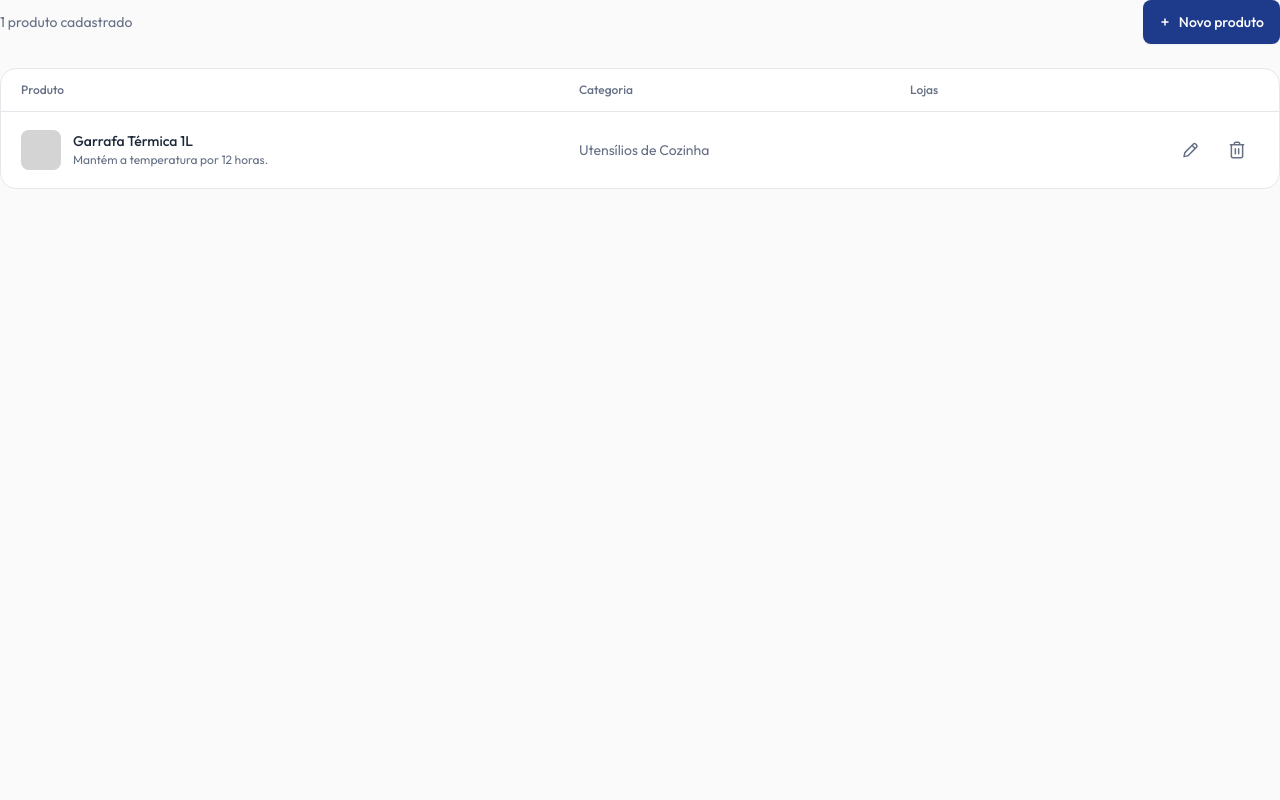
Scenario: ProductAdminPanel › opens the edit with the photos it already had when the api photos fail
Click the button named "Editar Garrafa Térmica 1L" at (1189,150), box [1167,128,1211,172]
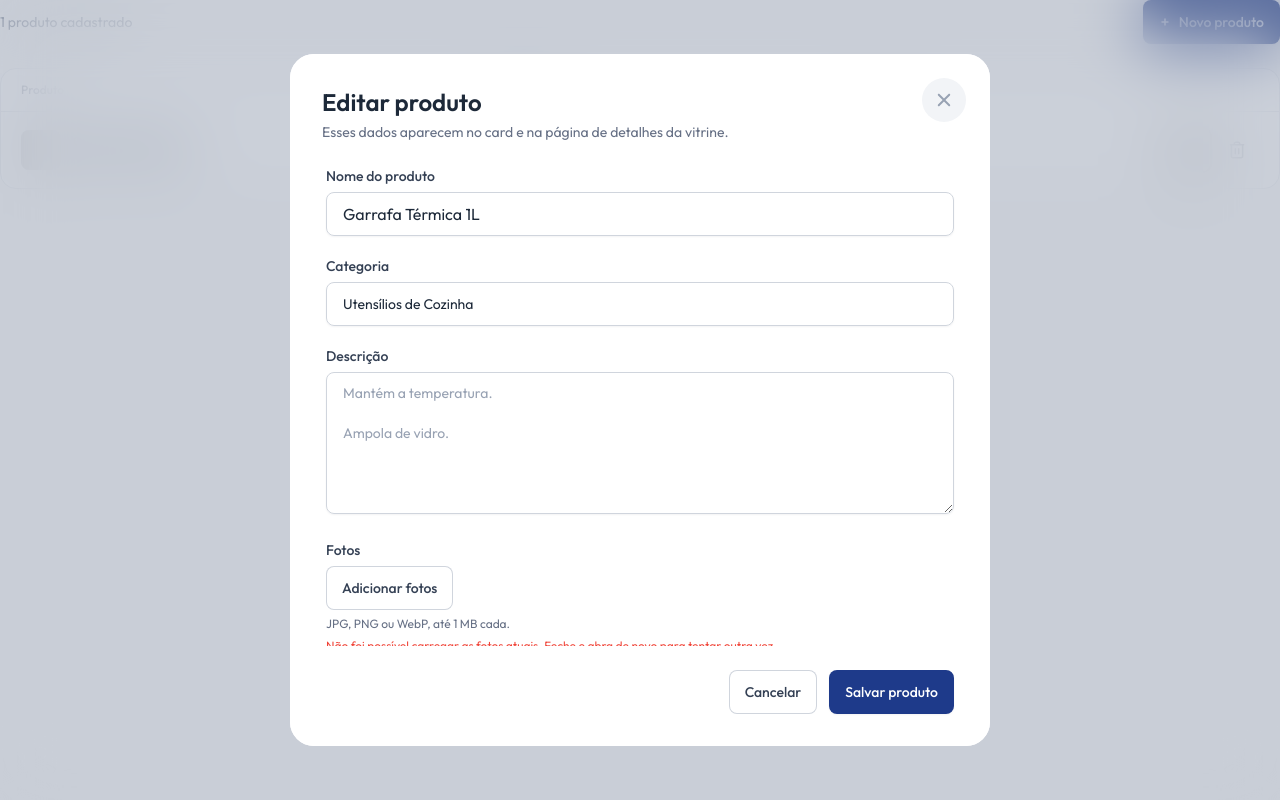
Result: the field labelled "Nome do produto" holds "Garrafa Térmica 1L" at [326,192,954,236]
